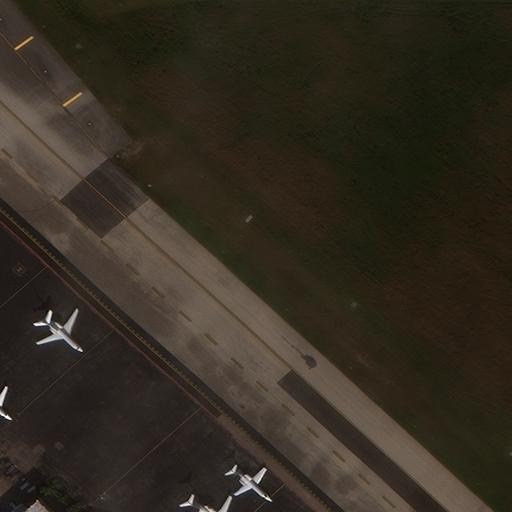Medium Civil Transport: (37, 308, 83, 351), (186, 495, 233, 512), (0, 385, 11, 420)
Small Civil Transport: (229, 468, 272, 502)
